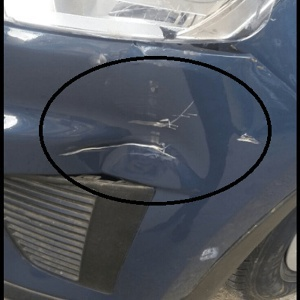bumper: (53, 194, 158, 282)
